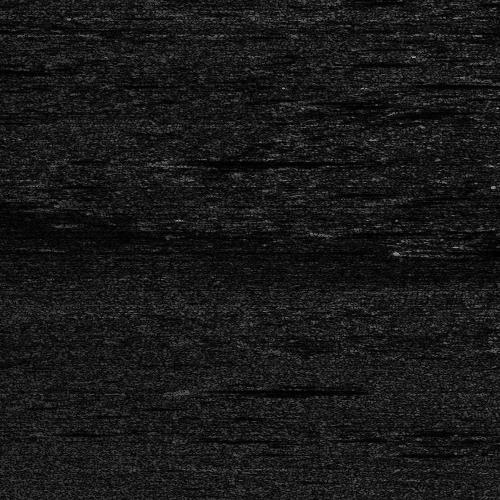object: (120, 153, 225, 168), (391, 246, 474, 255), (359, 79, 442, 86), (152, 385, 215, 392), (298, 228, 351, 233), (287, 99, 318, 102)
shadow: (173, 153, 326, 168), (184, 385, 330, 392), (433, 246, 500, 255), (401, 79, 484, 86), (325, 228, 439, 233), (303, 99, 383, 102)
